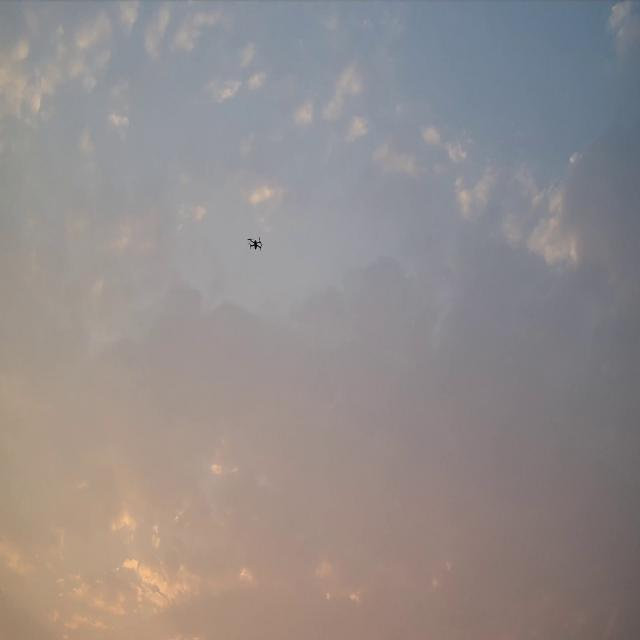UAV: (247, 236, 263, 251)
